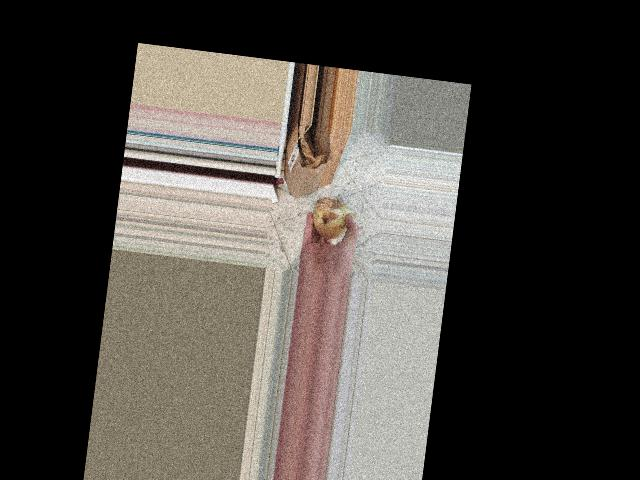onion: (309, 195, 358, 244)
